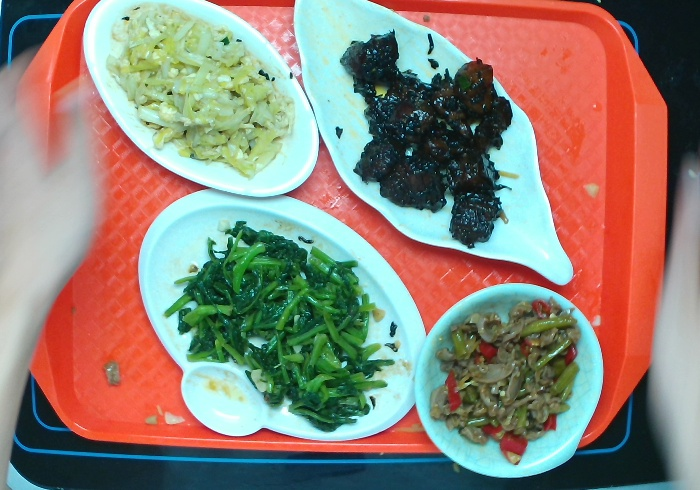RJxy-Bai_Se_Tuo_Yuan: (81, 1, 325, 203)
RJxy-Shu_Ye_Pan: (293, 1, 581, 291)
RJxy-Xiao_Jiao_Yuan_Wan: (409, 275, 613, 486)
RJxy-Zhan_Liao_Pan: (131, 184, 434, 444)
